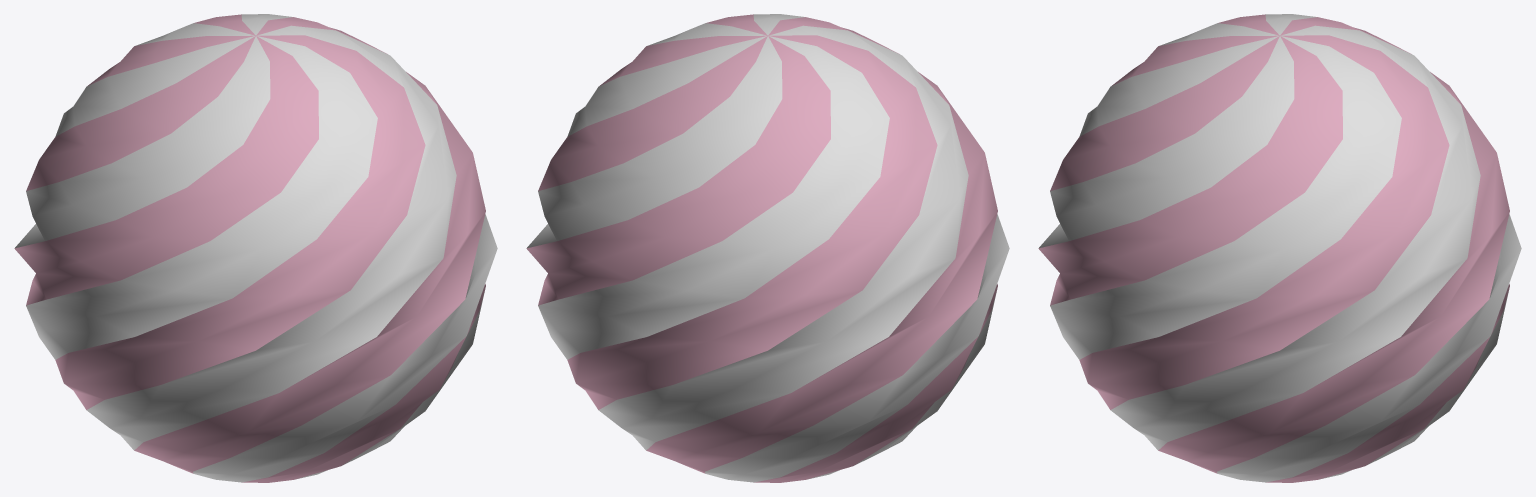
File: marsh_ball.glb
The picture shows the model from 3 angles, left to right: view 1: azimuth 30°, elevation 25°; view 2: azimuth 150°, elevation 25°; view 3: azimuth 270°, elevation 25°; orthographic projection.
Parts seen in each view (by area): view 1: marsh_ball; view 2: marsh_ball; view 3: marsh_ball.
Boxes of the visible parts, x1=… form: marsh_ball: x1=14, y1=14, x2=497, y2=482; marsh_ball: x1=526, y1=14, x2=1009, y2=482; marsh_ball: x1=1038, y1=14, x2=1521, y2=482.
Size of the model in its own units: 1.03 by 1 by 1.03.
